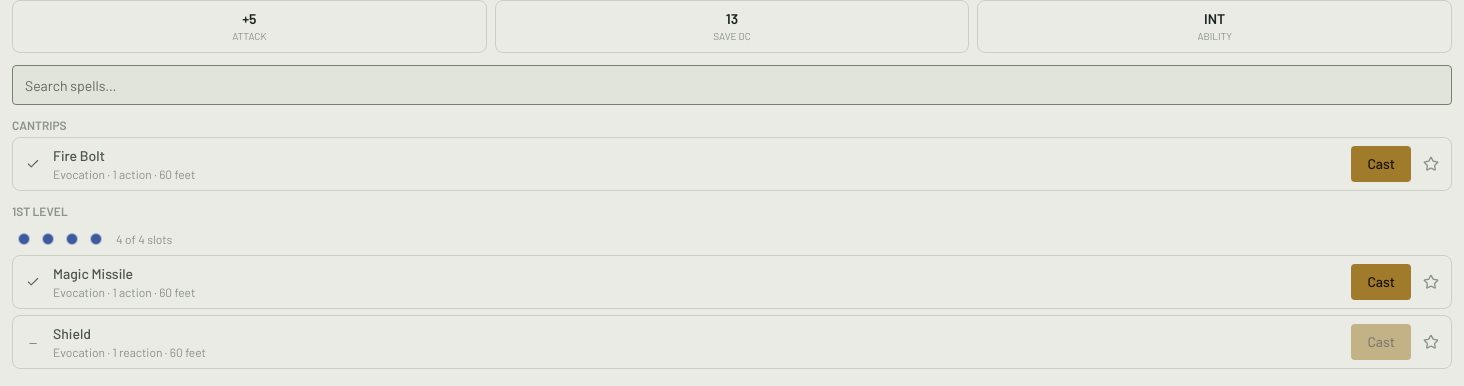
SpellsTab › filters by search
This screenshot has width=1464, height=386.
Type "fire" into the search field labelled "Search spells…".
click(732, 85); type("fire")  # box [12, 65, 1452, 105]
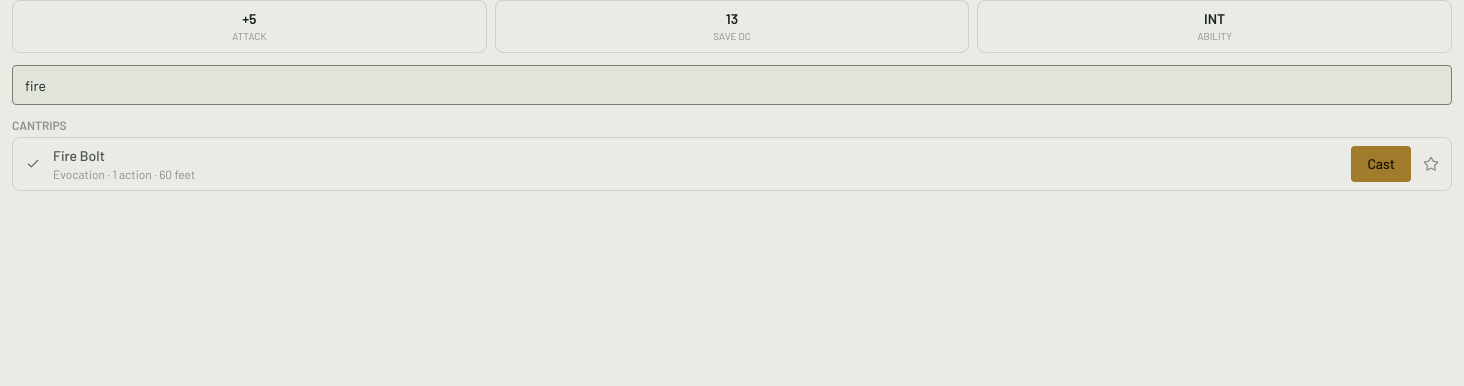
Check: the text "Fire Bolt" is shown, box [53, 146, 105, 166]
Check: the button "Magic Missile" is gone
